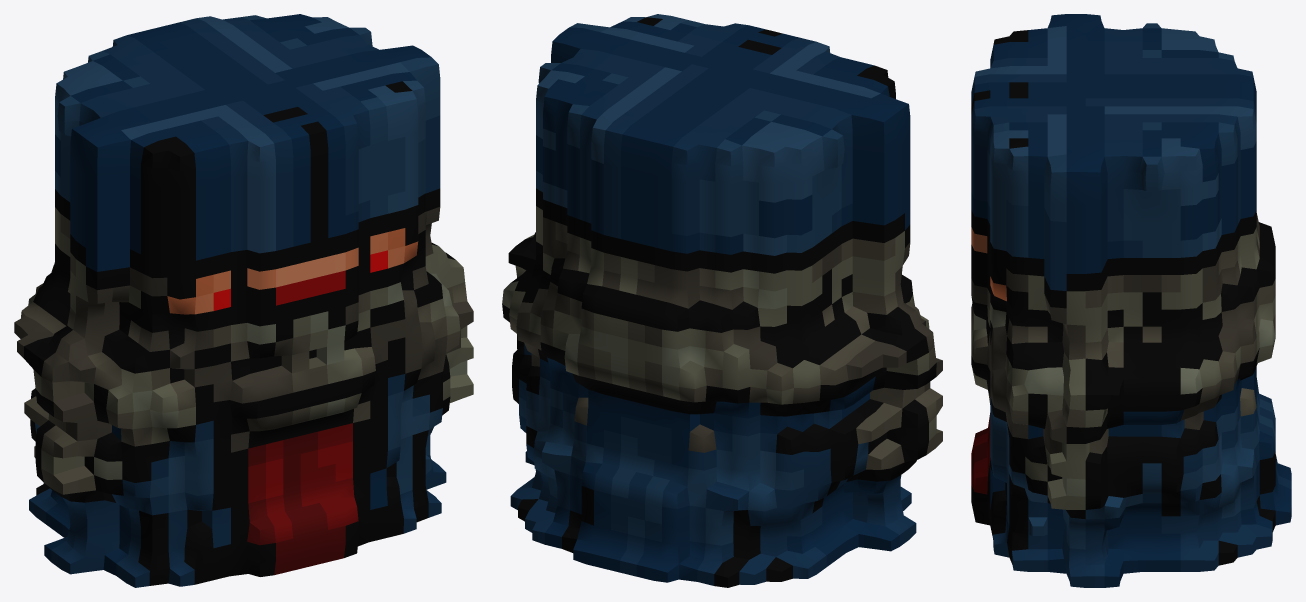
File: Icon_715_01.obj
3 renders of one model, left to right at view 1: azimuth 30°, elevation 25°; view 2: azimuth 150°, elevation 25°; view 3: azimuth 270°, elevation 25°, orthographic. The views are drawn at different scales.
Size of the model in its own units: 2.4 by 2.4 by 1.68.
1 material, 1 textured.
